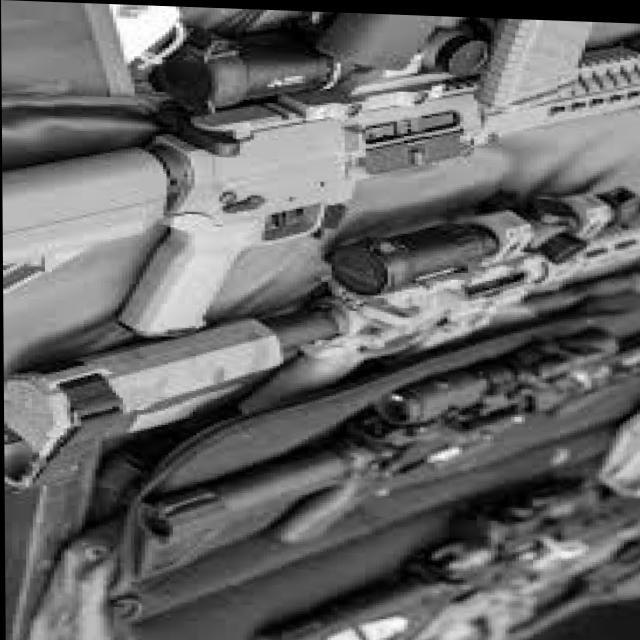rifle: (3, 0, 640, 356), (7, 160, 640, 506), (137, 313, 640, 558), (253, 469, 640, 640)
